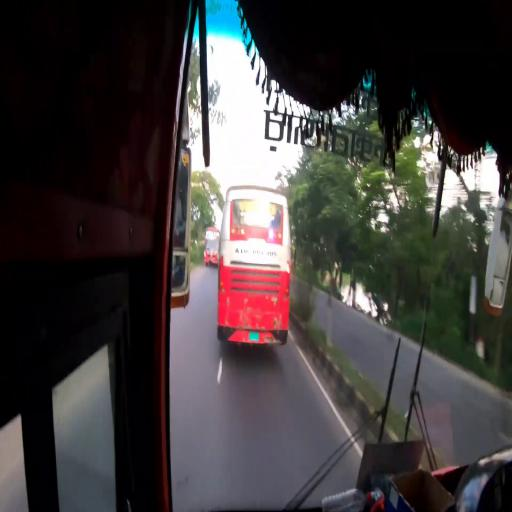bus: (219, 189, 292, 353), (203, 228, 220, 267)
